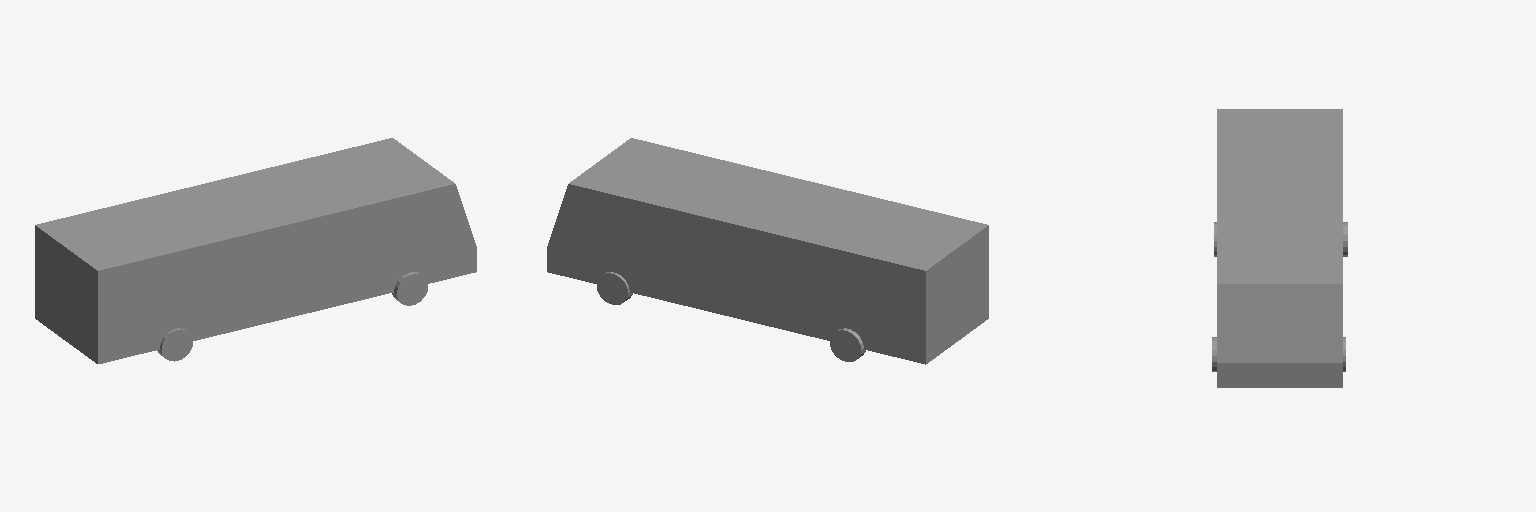
The model's file is bus.obj.
3 views of the same model, side by side, from view 1: azimuth 30°, elevation 25°; view 2: azimuth 150°, elevation 25°; view 3: azimuth 270°, elevation 25° (orthographic).
Visible parts, largest first — view 1: Car_11; view 2: Car_11; view 3: Car_11.
Part boxes in pixels (x1,y1,x2,y2): Car_11: (35,138,476,363); Car_11: (547,138,988,364); Car_11: (1212,109,1347,387).
Bounding box in the file's own units: 16.14 × 4.41 × 5.04.